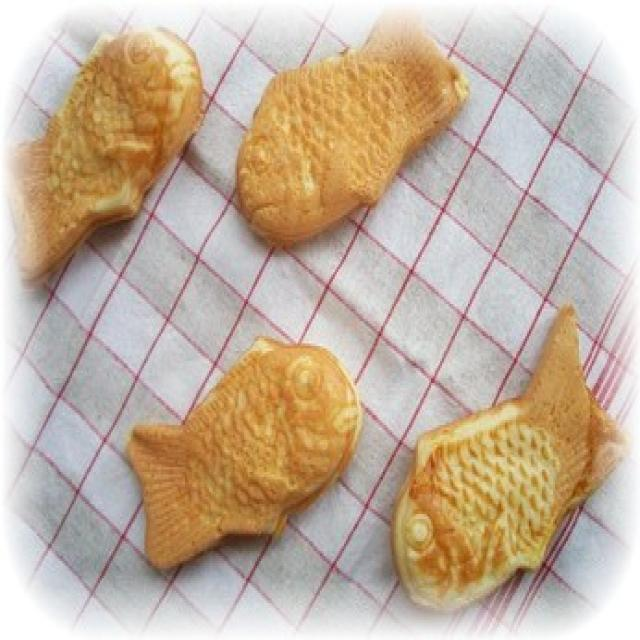熟制海鲜: (0, 2, 640, 606)
